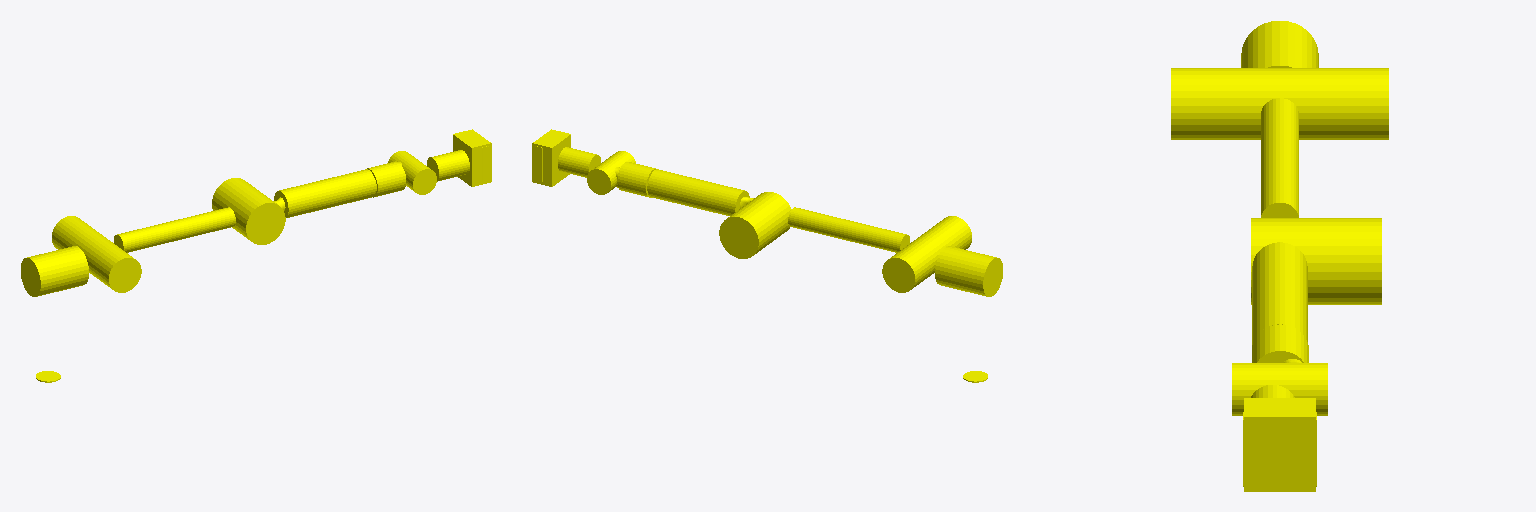
robot.urdf — Sherpa_tt:
<?xml version="1.0"?>
<robot name="Sherpa_tt">
    <material name="Yellow">
        <color rgba="1.0 1.0 0.0 0.5"/>
    </material>
    <material name="Gray">
        <color rgba="0.2 0.2 0.2 1.0"/>
    </material>
    <material name="Black">
        <color rgba="0 0 0 1.0"/>
    </material>

	<!-- Rover -->

    <link name="body">        
        <inertial>
            <origin xyz="0 0 0" rpy="0 0 0"/>
            <mass value="14.1"/>
            <inertia ixx="0" ixy="0" ixz="0" iyy="0" iyz="0" izz="0"/>
        </inertial>
    </link>


    <!-- Manipulator -->

	<!-- Arm mount dummy joint -->
    <joint name="arm_mount_joint" type="fixed">                
            <origin xyz="0.0 0.0 0.0" rpy="0 0 0"/>
            <axis xyz="0 0 1" rpy="0 0 0"/>
            <parent link="body"/>
            <child link="arm_mount_link"/>
            <limit lower="-3.1415926535897931" upper="3.1415926535897931" effort="10" velocity="3.1415926535897931"/>
    </joint>

    <link name="arm_mount_link">
            <visual>
                    <material name="Yellow"/>
                    <origin xyz="0 0 0 " rpy="0 0 0"/>
                    <geometry>
                            <cylinder length="0.005" radius="0.05"/>
                    </geometry>
            </visual>
    </link>

    <link name="arm_link_1">
        <inertial>
            <origin xyz="0 0 0.0" rpy="0 0 0"/>
            <mass value="5.0"/>
            <inertia ixx="0" ixy="0" ixz="0" iyy="0" iyz="0" izz="0"/>
        </inertial>
        <visual>
            <material name="Yellow"/>
            <origin xyz="0 0 0.0" rpy="0 0 0"/>
            <geometry>
                <mesh filename="./meshes/manipulator/sherpa_arm_joint_1.stl" scale="0.001 0.001 0.001"/>
            </geometry>
        </visual>
        <visual>
            <material name="Yellow"/>
            <origin xyz="0.22 0 0.48" rpy="0 1.570796327 1.570796327"/>
            <geometry>
                <!--mesh filename="./meshes/manipulator/sherpa_arm_joint_1.stl" scale="0.001 0.001 0.001" /-->
                <cylinder length="0.45" radius="0.075"/>
            </geometry>
        </visual>
        <visual>
            <material name="Yellow"/>
            <origin xyz="0.03 0.0 0.45" rpy="0 1.570796327 0"/>
            <geometry>
                <cylinder length="0.22" radius="0.08"/>
                <!--cylinder length="0.24" radius="0.08"/-->
            </geometry>
        </visual>
	<!--<collision>
            <material name="Yellow"/>
            <origin xyz="0.22 0 0.48" rpy="0 1.570796327 1.570796327"/>
            <geometry>
                <cylinder length="0.45" radius="0.075"/>
            </geometry>
        </collision>
        <collision>
            <material name="Yellow"/>
            <origin xyz="0.03 0.0 0.45" rpy="0 1.570796327 0"/>
            <geometry>
                <cylinder length="0.22" radius="0.08"/>
            </geometry>
    </collision>/-->
    </link>
    <joint name="arm_joint_1" type="revolute">
        <parent link="arm_mount_link"/>
        <child link="arm_link_1"/>
        <origin xyz="0 0 0.0" rpy="0 0 0"/>
        <axis xyz="0 0 1"/>
        <limit lower="-3.05432" upper="+3.05432" effort="1" velocity="3.1415926535897931"/>
    </joint>

    <link name="arm_link_2">
        <inertial>
            <origin xyz="0 0 0.0" rpy="0 0 0.0"/>
            <mass value="5.0"/>
            <inertia ixx="0" ixy="0" ixz="0" iyy="0" iyz="0" izz="0"/>
        </inertial>
        <visual>
            <material name="Yellow"/>
            <origin xyz="0 0 0.0" rpy="0 0 0"/>
            <geometry>
                <mesh filename="./meshes/manipulator/sherpa_arm_joint_2.stl" scale="0.001 0.001 0.001"/>
            </geometry>
        </visual>
        <visual>
            <material name="Yellow"/>
            <origin xyz="0.35 0.0 0.0" rpy="0 1.570796327 0"/>
            <geometry>
                <cylinder length="0.51" radius="0.04"/>
            </geometry>
        </visual>
        <visual>
            <material name="Yellow"/>
            <origin xyz="0.73 0.035 0.075" rpy="0 0 0"/>
            <geometry>
                <cylinder length="0.27" radius="0.09"/>
            </geometry>
        </visual>
        <collision>
            <material name="Yellow"/>
            <origin xyz="0.35 0.0 0.0" rpy="0 1.570796327 0"/>
            <geometry>
                <cylinder length="0.51" radius="0.04"/>
            </geometry>
        </collision>
        <collision>
            <material name="Yellow"/>
            <origin xyz="0.73 0.035 0.075" rpy="0 0 0"/>
            <geometry>
                <cylinder length="0.27" radius="0.09"/>
            </geometry>
        </collision>
    </link>
    <joint name="arm_joint_2" type="revolute">
        <parent link="arm_link_1"/>
        <child link="arm_link_2"/>
        <origin xyz="0.225 0 0.50" rpy="-1.570796327 0 0"/>
        <axis xyz="0 0 1"/>
        <limit lower="-2.094395102" upper="+1.047197551" effort="1" velocity="3.1415926535897931"/>
        
    </joint>

    <link name="arm_link_3">
        <inertial>
            <origin xyz="0 0 0.0" rpy="0 0 0"/>
            <mass value="5.0"/>
            <inertia ixx="0" ixy="0" ixz="0" iyy="0" iyz="0" izz="0"/>
        </inertial>
        <visual>
            <material name="Yellow"/>
            <origin xyz="0 0 0.0" rpy="0 0 0"/>
            <geometry>
                <mesh filename="./meshes/manipulator/sherpa_arm_joint_3.stl" scale="0.001 0.001 0.001"/>
            </geometry>
        </visual>
        <visual>
            <material name="Yellow"/>
            <origin xyz="0.3 0 0.03" rpy="0 1.570796327 0"/>
            <geometry>
                <cylinder length="0.4" radius="0.057"/>
            </geometry>
        </visual>
        <collision>
            <material name="Yellow"/>
            <origin xyz="0.3 0 0.03" rpy="0 1.570796327 0"/>
            <geometry>
                <cylinder length="0.4" radius="0.057"/>
            </geometry>
        </collision>
    </link>
    <joint name="arm_joint_3" type="revolute">
        <parent link="arm_link_2"/>
        <child link="arm_link_3"/>
        <origin xyz="0.735 0.030 0" rpy="1.570796327 0 0"/>
        <axis xyz="0 1 0"/>
        <limit lower="-1.919862177" upper="+3.001966313" effort="1" velocity="3.1415926535897931"/>
    </joint>

    <link name="arm_link_4">
        <inertial>
            <origin xyz="0 0 0.0" rpy="0 0 0"/>
            <mass value="5.0"/>
            <inertia ixx="0" ixy="0" ixz="0" iyy="0" iyz="0" izz="0"/>
        </inertial>
        <visual>
            <material name="Yellow"/>
            <origin xyz="0 0 0.0" rpy="0 0 0"/>
            <geometry>
                <mesh filename="./meshes/manipulator/sherpa_arm_joint_4.stl" scale="0.001 0.001 0.001"/>
            </geometry>
        </visual>
        <visual>
            <material name="Yellow"/>
            <origin xyz="-0.125 0.0 0.001" rpy="0 1.570796327 0"/>
            <geometry>
                <cylinder length="0.13" radius="0.059"/>
            </geometry>
        </visual>
        <visual>
            <material name="Yellow"/>
            <origin xyz="0.0 0.0 0.0" rpy="0 0 0"/>
            <geometry>
                <cylinder length="0.2" radius="0.055"/>
            </geometry>
        </visual>
        <collision>
            <material name="Yellow"/>
            <origin xyz="-0.125 0.0 0.001" rpy="0 1.570796327 0"/>
            <geometry>
                <cylinder length="0.13" radius="0.059"/>
            </geometry>
        </collision>
        <collision>
            <material name="Yellow"/>
            <origin xyz="0.0 0.0 0.0" rpy="0 0 0"/>
            <geometry>
                <cylinder length="0.2" radius="0.055"/>
            </geometry>
        </collision>
    </link>
    <joint name="arm_joint_4" type="revolute">
        <parent link="arm_link_3"/>
        <child link="arm_link_4"/>
        <origin xyz="0.695 0.0 0.03 " rpy="-1.570796327 0 0"/>
        <axis xyz="1 0 0"/>
        <limit lower="-3.490658504" upper="+3.490658504" effort="1" velocity="3.1415926535897931"/>
    </joint>

    <link name="arm_link_5">
        <inertial>
            <origin xyz="0 0 0.0" rpy="0 0 0"/>
            <mass value="5.0"/>
            <inertia ixx="0" ixy="0" ixz="0" iyy="0" iyz="0" izz="0"/>
        </inertial>
        <visual>
            <material name="Yellow"/>
            <origin xyz="0 0 0.0" rpy="0 0 0"/>
            <geometry>
                <mesh filename="./meshes/manipulator/sherpa_arm_joint_5.stl" scale="0.001 0.001 0.001"/>
            </geometry>
        </visual>
        <visual>
            <material name="Yellow"/>
            <origin xyz="0.155 -0.015 0" rpy="0 1.570796327 0"/>
            <geometry>
                <cylinder length="0.14" radius="0.05"/>
            </geometry>
        </visual>
        <collision>
            <material name="Yellow"/>
            <origin xyz="0.155 -0.015 0" rpy="0 1.570796327 0"/>
            <geometry>
                <cylinder length="0.14" radius="0.05"/>
            </geometry>
        </collision>
    </link>
    <joint name="arm_joint_5" type="revolute">
        <parent link="arm_link_4"/>
        <child link="arm_link_5"/>
        <origin xyz="0.0 0 0.0" rpy="1.570796327 0 0"/>
        <axis xyz="0 1 0"/>
        <limit lower="-2.268928028" upper="+2.268928028" effort="1" velocity="3.1415926535897931"/>
    </joint>

    <link name="arm_link_6">
        <inertial>
            <origin xyz="0 0 0.0" rpy="0 0 0"/>
            <mass value="5.0"/>
            <inertia ixx="0" ixy="0" ixz="0" iyy="0" iyz="0" izz="0"/>
        </inertial>
        <visual>
            <material name="Yellow"/>
            <origin xyz="0 0 0.0" rpy="0 0 0"/>
            <geometry>
                <mesh filename="./meshes/manipulator/sherpa_arm_joint_6.stl" scale="0.001 0.001 0.001"/>
            </geometry>
        </visual>
        <visual>
            <material name="Yellow"/>
            <origin xyz="0.0 0 -0.04" rpy="0 0 0"/>
            <geometry>
                <!--mesh filename="./meshes/manipulator/sherpa_arm_joint_6.stl" scale="0.001 0.001 0.001"/-->
                <box size="0.17 0.15 0.09"/>
            </geometry>
        </visual>
        <collision>
            <material name="Yellow"/>
            <origin xyz="0.0 0 -0.04" rpy="0 0 0"/>
            <geometry>
                <!--mesh filename="./meshes/manipulator/sherpa_arm_joint_6.stl" scale="0.001 0.001 0.001"/-->
                <box size="0.17 0.15 0.09"/>
            </geometry>
        </collision>
    </link>
    <joint name="arm_joint_6" type="revolute">
        <parent link="arm_link_5"/>
        <child link="arm_link_6"/>
        <origin xyz="0.312 0 0.0" rpy="-1.570796327 -1.570796327 -1.570796327"/>
        <axis xyz="0 0 1"/>
        <limit lower="-3.490658504" upper="+3.490658504" effort="1" velocity="3.1415926535897931"/>
    </joint>
</robot>

--- Facts derived from the render (not from the file) ---
The picture shows the robot from 3 angles, left to right: view 1: azimuth 30°, elevation 25°; view 2: azimuth 150°, elevation 25°; view 3: azimuth 270°, elevation 25°; orthographic projection.
Model Sherpa_tt with 8 links and 7 joints (6 revolute, 1 fixed), rooted at body, posed all joints at 0.
Links seen in each view (by area): view 1: arm_link_1, arm_link_2, arm_link_3, arm_link_4, arm_link_6, arm_link_5; view 2: arm_link_1, arm_link_2, arm_link_3, arm_link_4, arm_link_6, arm_link_5; view 3: arm_link_1, arm_link_2, arm_link_6, arm_link_4, arm_link_3.
Link boxes in pixels (box(x1,y1,x2,y2)): arm_link_1: box(21, 216, 141, 296); arm_link_2: box(114, 178, 285, 252); arm_link_3: box(274, 169, 376, 217); arm_link_4: box(367, 151, 436, 197); arm_link_6: box(453, 129, 491, 186); arm_link_5: box(427, 150, 469, 181); arm_link_1: box(882, 216, 1002, 296); arm_link_2: box(719, 192, 909, 258); arm_link_3: box(647, 169, 753, 215); arm_link_4: box(587, 151, 655, 197); arm_link_6: box(532, 129, 570, 186); arm_link_5: box(558, 147, 600, 177); arm_link_1: box(1171, 21, 1388, 139); arm_link_2: box(1251, 98, 1381, 304); arm_link_6: box(1243, 398, 1316, 491); arm_link_4: box(1232, 324, 1327, 415); arm_link_3: box(1252, 242, 1307, 344).
Size in the robot's own frame: 2.05 by 0.45 by 0.5875 metres.
Meshes: 6 distinct files referenced, 3 mesh visuals loaded (3 binary STL); not drawn: 3 (reference not matched to a file when rendering).